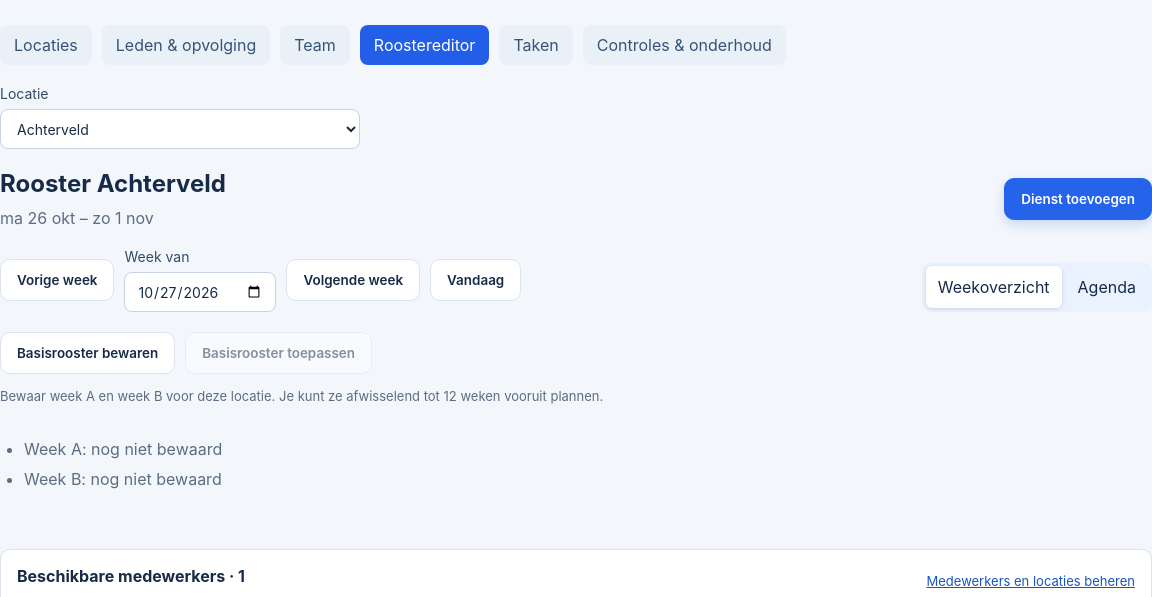
ondersteunt inplannen zonder slepen en initialiseert een volgende dienst opnieuw
Type "2026-11-02" into the date field labelled "Week van" at (200, 292), box [124,272,276,312]
(page scrolled)
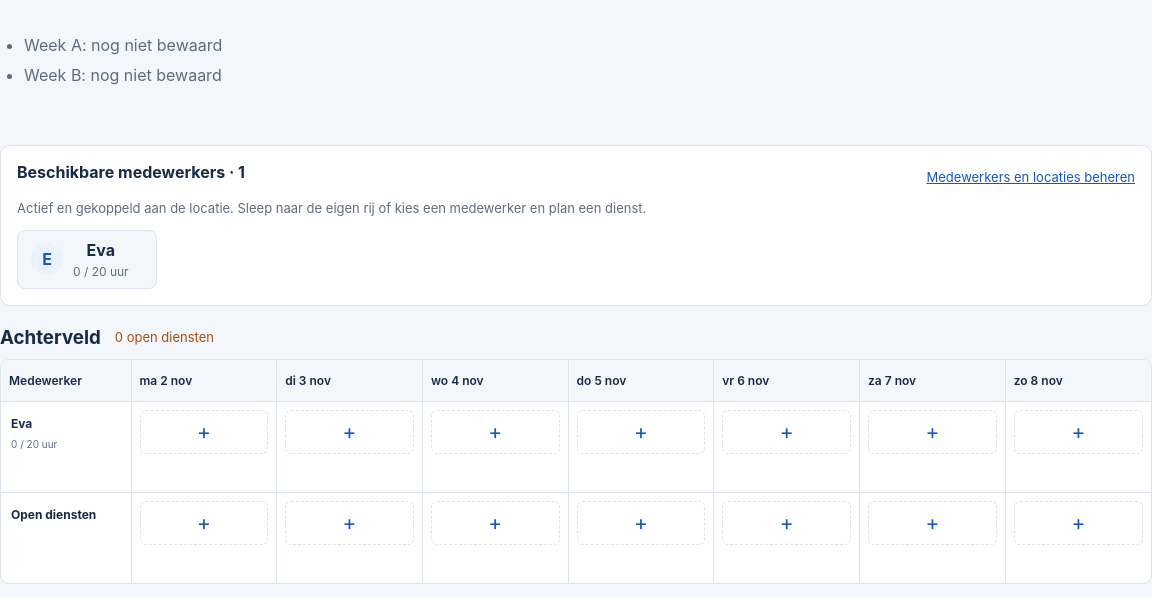
Click the button with aria-label "Eva selecteren voor een dienst" at (87, 259), box [17,230,157,289]
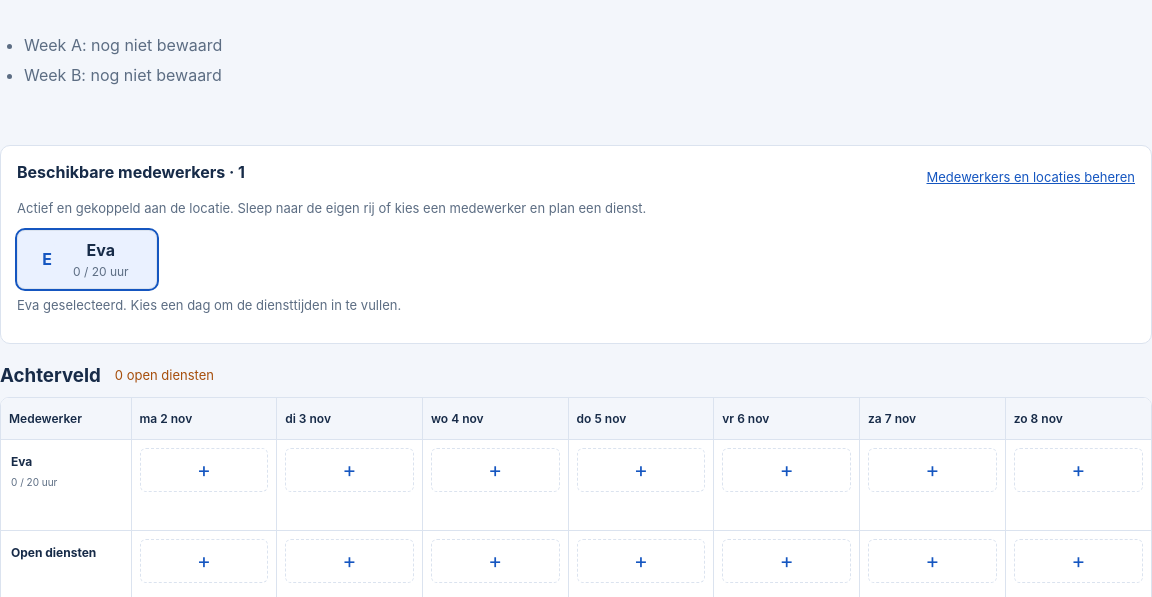
Click the button named "Dienst plannen voor Achterveld op 2026-11-02 met Eva" at (204, 470), box [140,448,268,492]
(page scrolled)
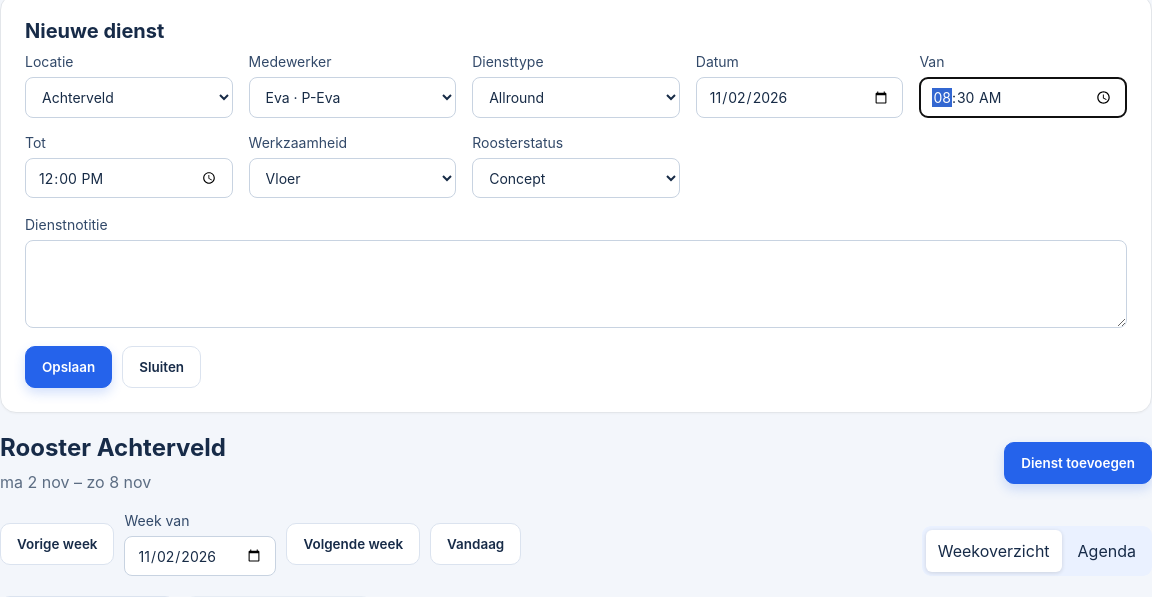
Check: the date field labelled "Datum" holds "2026-11-02", box [696,77,903,118]
Replace the text in the time field labelled "Van" with "11:00" at (1023, 97), box [919,77,1127,118]
(page scrolled)
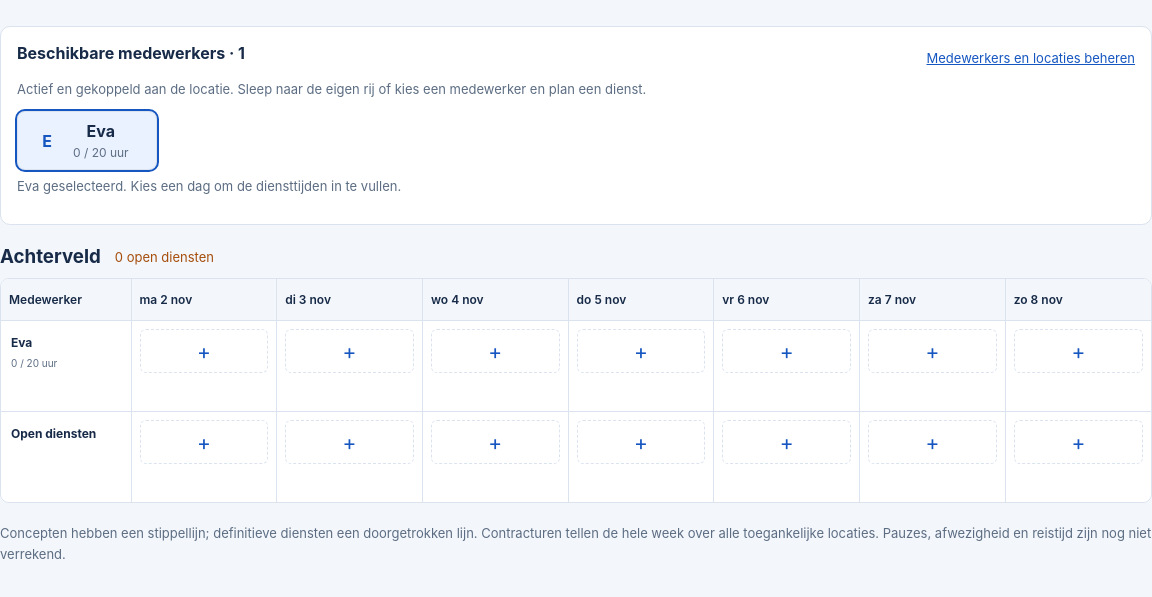
Click the button named "Dienst plannen voor Achterveld op 2026-11-04 met Eva" at (495, 351), box [431,329,560,373]
(page scrolled)
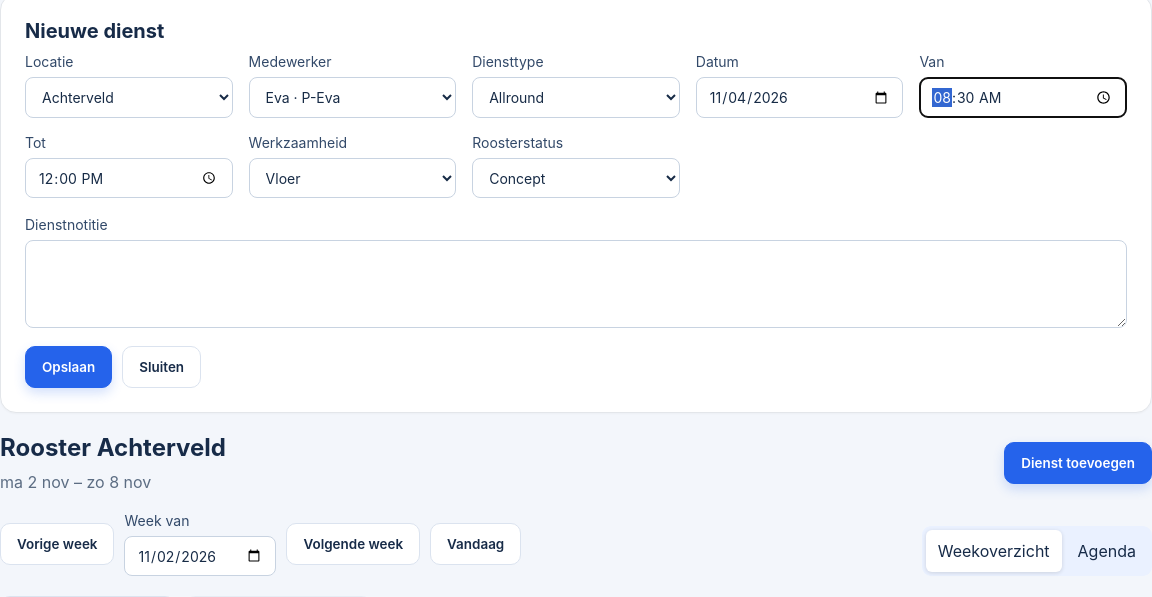
Check: the date field labelled "Datum" holds "2026-11-04", box [696,77,903,118]
Check: the time field labelled "Van" holds "08:30", box [919,77,1127,118]
